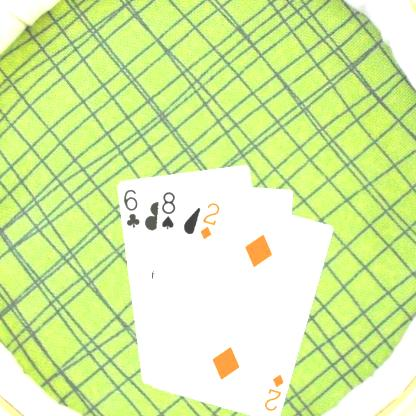2D: (197, 199, 221, 241), (261, 371, 285, 413)
6C: (121, 186, 141, 229)
8S: (158, 189, 176, 231)
